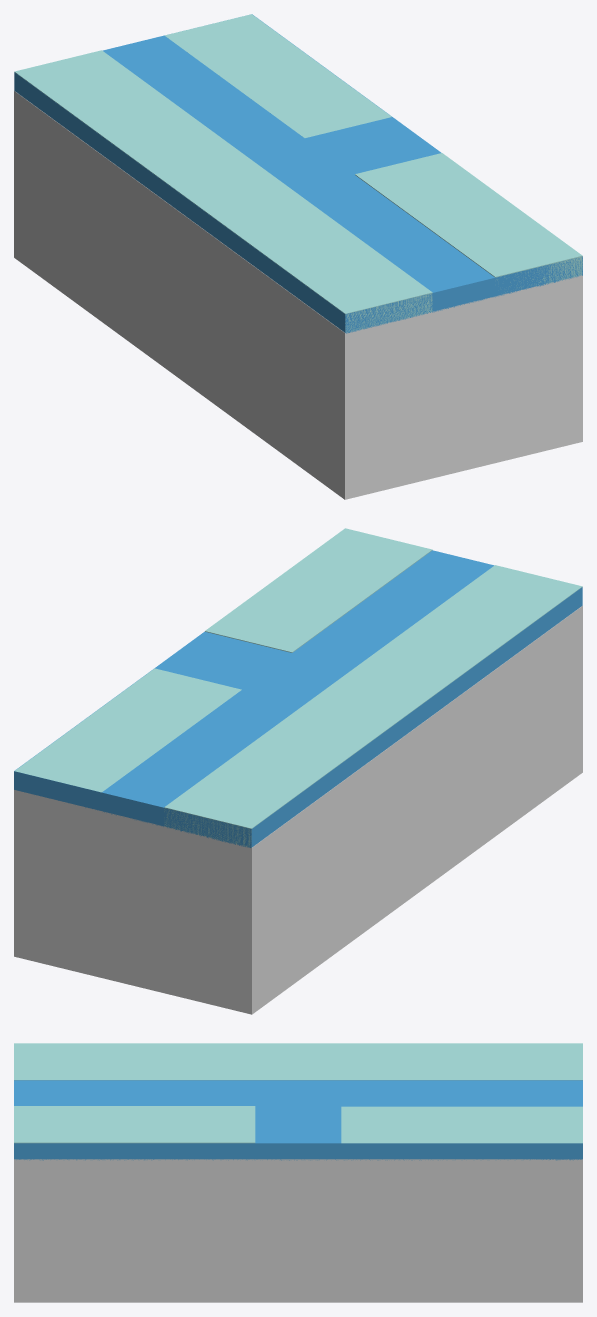
The model's file is etching.gltf.
3 views of the same model, one above another, from view 1: azimuth 30°, elevation 25°; view 2: azimuth 150°, elevation 25°; view 3: azimuth 270°, elevation 25° (orthographic). The views are drawn at different scales.
Visible parts, largest first — view 1: Cube, Cube.002, Cube.003, Cube.004, Cube.001; view 2: Cube, Cube.002, Cube.003, Cube.004, Cube.001; view 3: Cube, Cube.002, Cube.003, Cube.001, Cube.004.
Boxes of the visible parts, x1,y1,x2,y2 form: Cube: [14, 91, 582, 499]; Cube.002: [14, 14, 582, 333]; Cube.003: [14, 50, 432, 332]; Cube.004: [355, 153, 582, 292]; Cube.001: [165, 14, 391, 137]; Cube: [14, 605, 582, 1014]; Cube.002: [14, 550, 582, 847]; Cube.003: [164, 565, 582, 847]; Cube.004: [205, 528, 432, 652]; Cube.001: [14, 668, 241, 792]; Cube: [14, 1159, 582, 1302]; Cube.002: [14, 1080, 582, 1160]; Cube.003: [14, 1043, 582, 1080]; Cube.001: [341, 1106, 582, 1143]; Cube.004: [14, 1106, 255, 1143].
Size of the model in its own units: 2 by 1.49 by 4.82.
